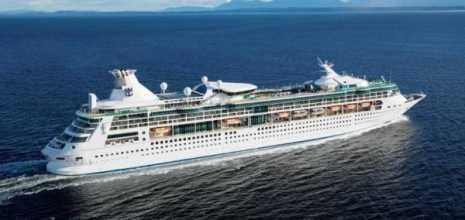youlun: (38, 55, 429, 176)
